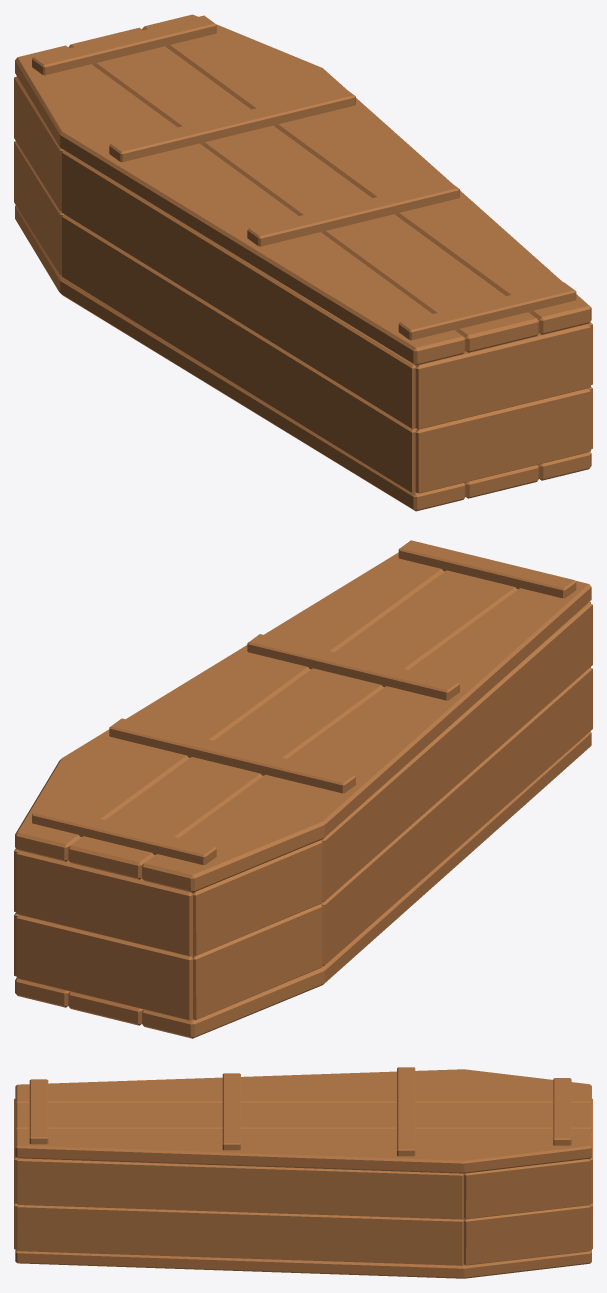
File: Coffin_2.fbx
3 renders of one model, top to bottom at view 1: azimuth 30°, elevation 25°; view 2: azimuth 150°, elevation 25°; view 3: azimuth 270°, elevation 25°, orthographic. The views are drawn at different scales.
Visible parts, largest first — view 1: Coffin_2_Lid, Coffin_2; view 2: Coffin_2_Lid, Coffin_2; view 3: Coffin_2, Coffin_2_Lid.
Boxes of the visible parts, bbox=[...] form: Coffin_2_Lid: bbox=[15, 14, 591, 365]; Coffin_2: bbox=[14, 76, 592, 511]; Coffin_2_Lid: bbox=[15, 540, 591, 892]; Coffin_2: bbox=[14, 601, 592, 1038]; Coffin_2: bbox=[14, 1098, 592, 1278]; Coffin_2_Lid: bbox=[15, 1067, 591, 1173].
Bounding box in the file's own units: 24.01 × 15.01 × 63.06.
